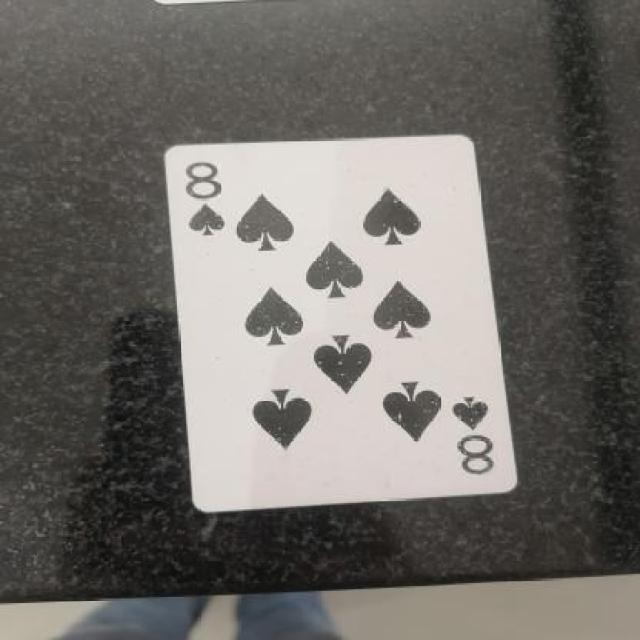8S: (444, 378, 518, 478), (167, 155, 244, 247)
